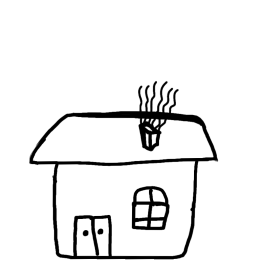bottom_placed_house: (3, 1, 260, 260)
closed_window: (126, 176, 178, 235)
door: (63, 207, 116, 260)
roof: (25, 107, 226, 170)
smoking_chimney: (128, 75, 181, 156)
wall: (48, 154, 205, 260)
